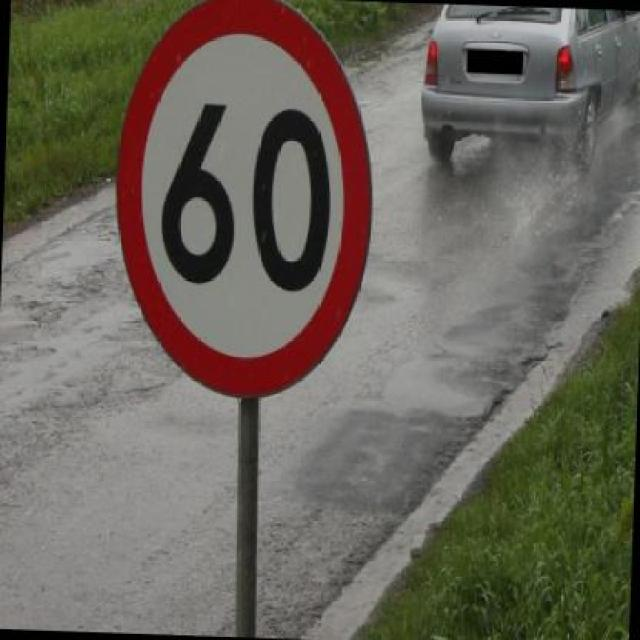Limite-60: (114, 0, 368, 401)
